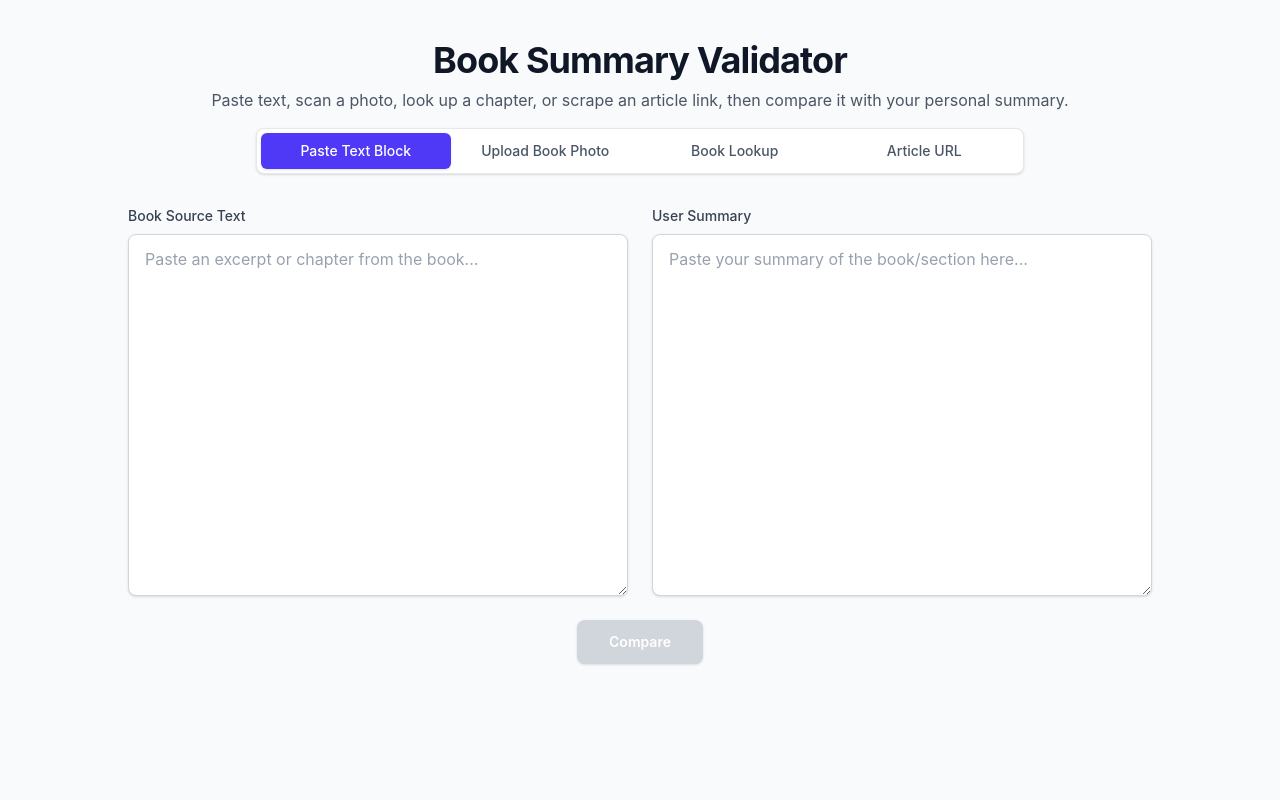
it: App › shows compare errors from the API
Type "Book excerpt" into the text box labelled "Book Source Text". click: (378, 415)
box: x1=128 y1=234 x2=628 y2=596
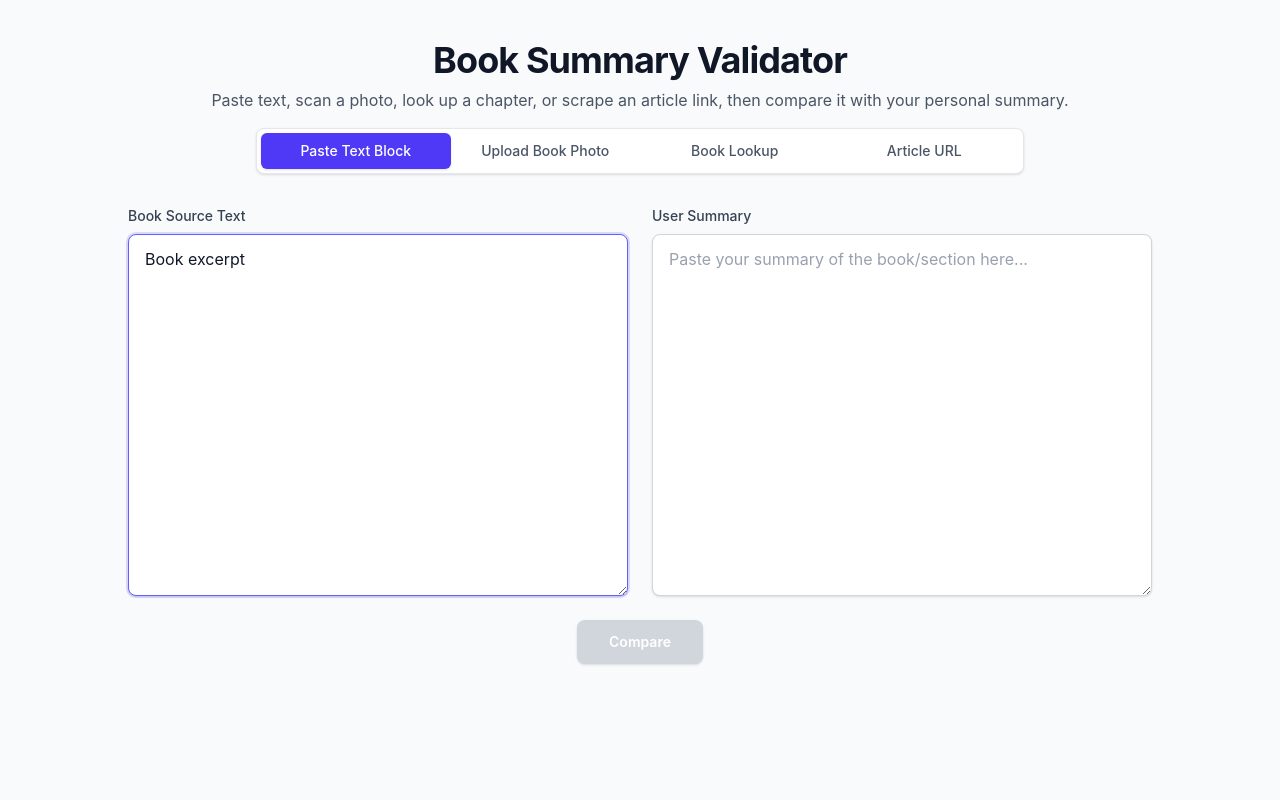
Type "My summary" into the text box labelled "User Summary". click: (902, 415)
box: x1=652 y1=234 x2=1152 y2=596
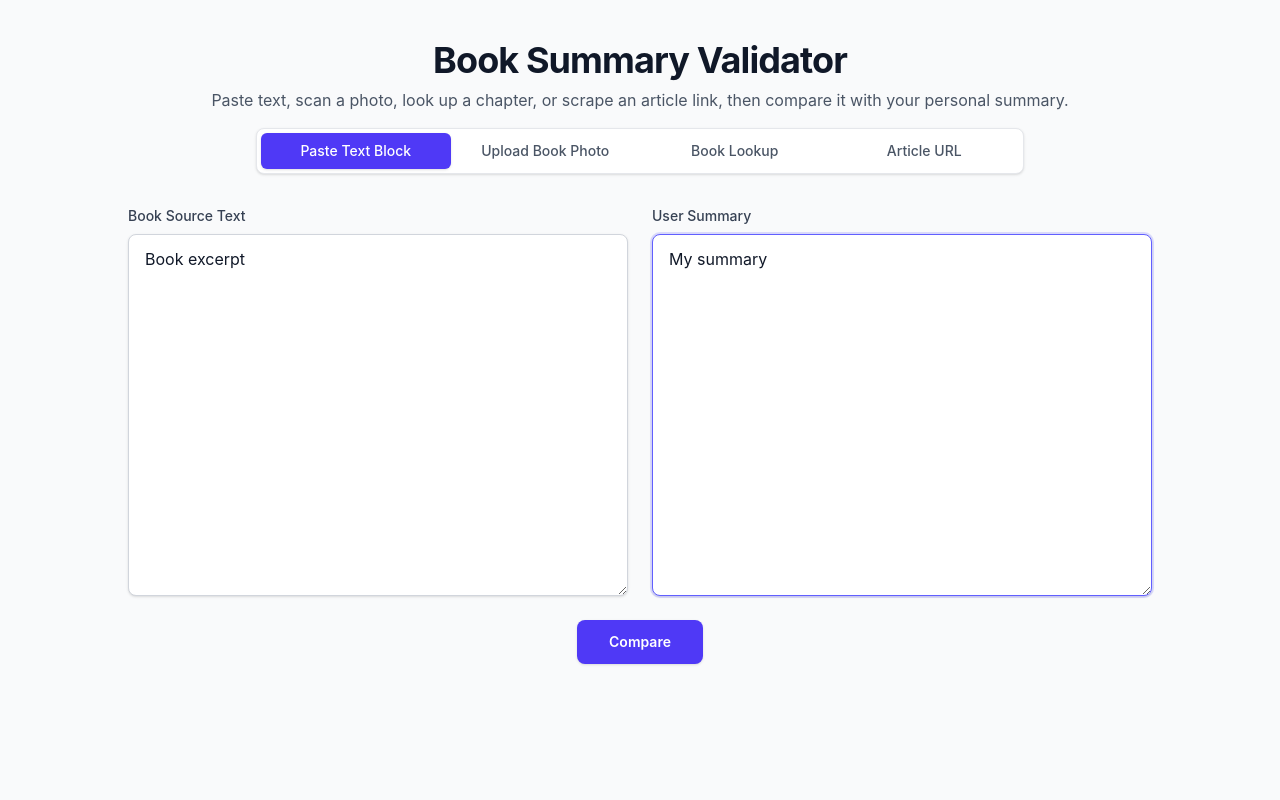
Click the button "Compare". click: (640, 642)
box: x1=577 y1=620 x2=703 y2=664
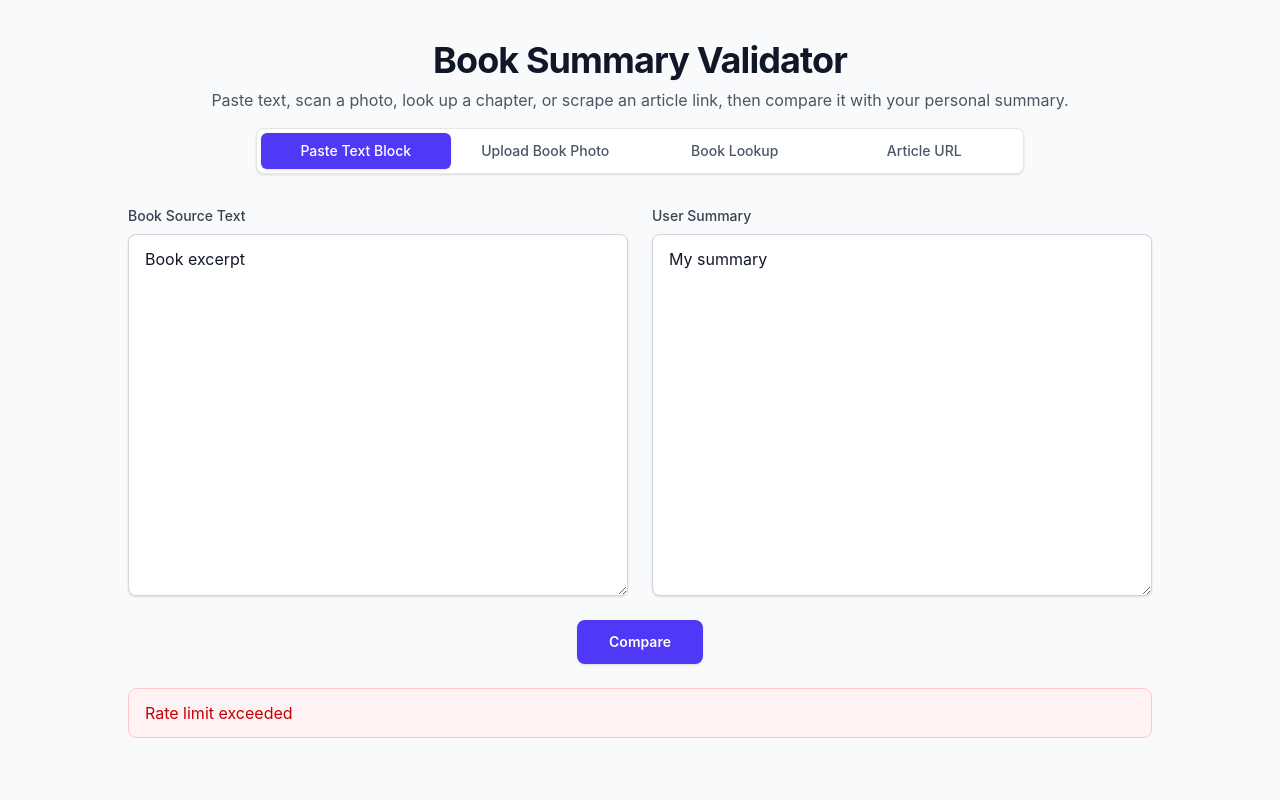
Expected: the message reads "Rate limit exceeded", x1=145 y1=703 x2=292 y2=723
